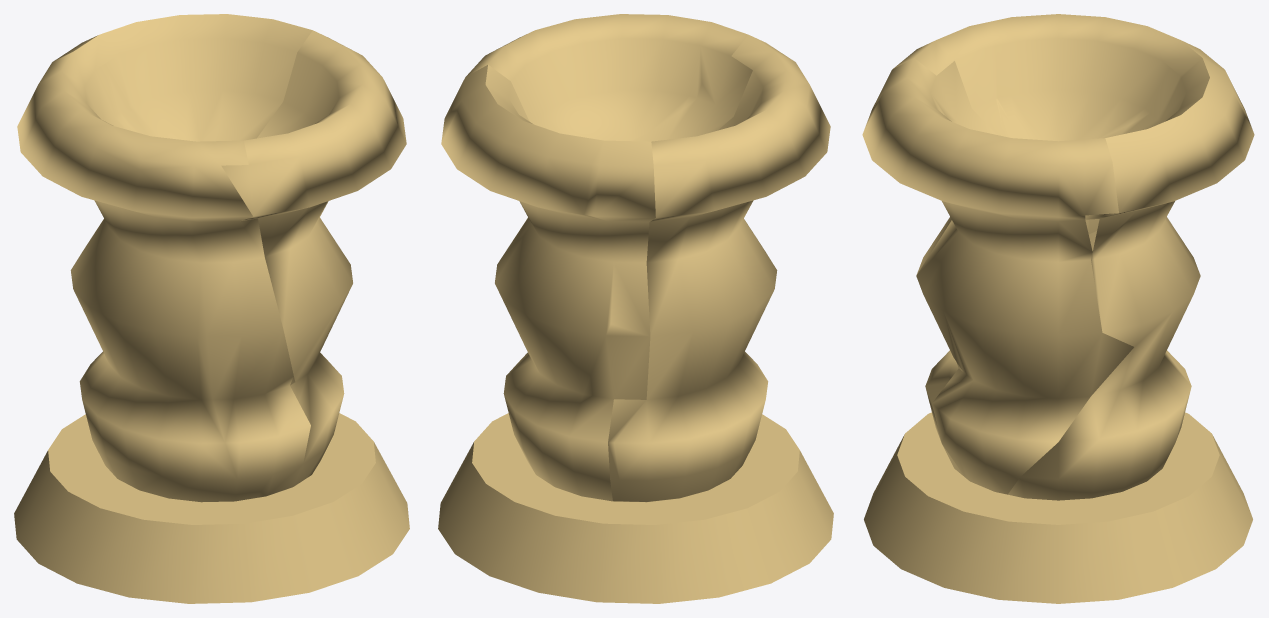
File: Pottery 2_broken.fbx
The picture shows the model from 3 angles, left to right: view 1: azimuth 30°, elevation 25°; view 2: azimuth 150°, elevation 25°; view 3: azimuth 270°, elevation 25°; orthographic projection.
Parts seen in each view (by area): view 1: pTorus1.005, pTorus1.001, pTorus1.002; view 2: pTorus1.005, pTorus1.003, pTorus1.001, pTorus1.002; view 3: pTorus1.002, pTorus1.001, pTorus1.003, pTorus1.005.
Boxes of the visible parts, left/top/right/bottom form: pTorus1.005: left=17, top=14, right=312, bottom=502; pTorus1.001: left=14, top=413, right=409, bottom=603; pTorus1.002: left=221, top=30, right=406, bottom=477; pTorus1.005: left=485, top=35, right=830, bottom=501; pTorus1.003: left=441, top=65, right=655, bottom=501; pTorus1.001: left=438, top=413, right=833, bottom=603; pTorus1.002: left=466, top=14, right=752, bottom=354; pTorus1.002: left=862, top=58, right=1133, bottom=494; pTorus1.001: left=864, top=412, right=1252, bottom=603; pTorus1.003: left=1008, top=41, right=1254, bottom=500; pTorus1.005: left=893, top=14, right=1209, bottom=476.
Bounding box in the file's own units: 13315 × 16243 × 13065.
